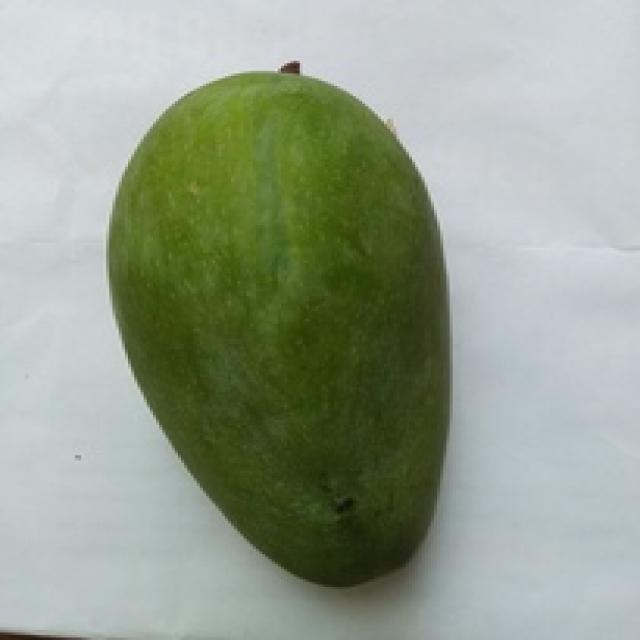Mango: (109, 71, 446, 584)
